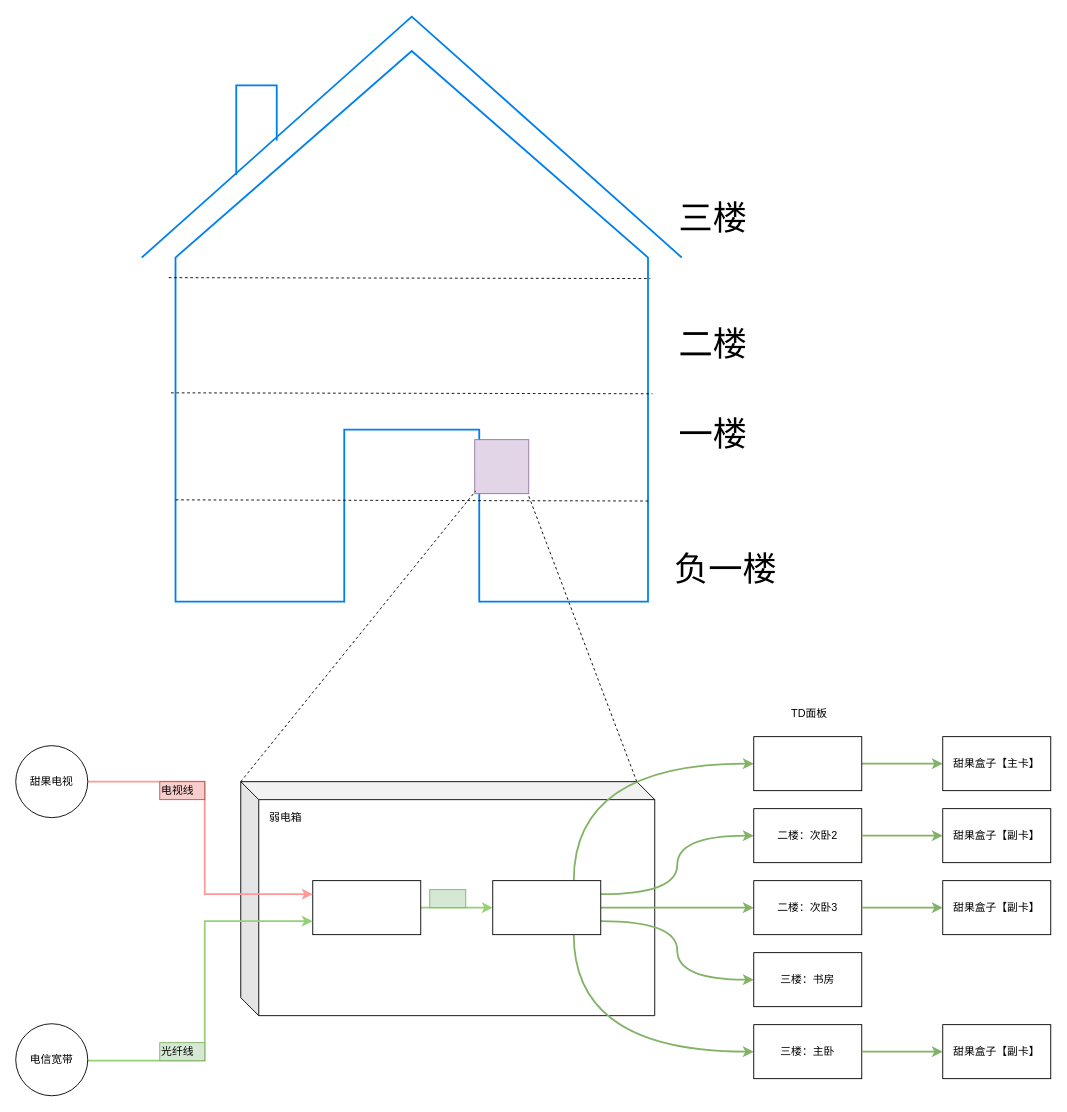
The diagram is 1067 pixels wide and 1112 high, and some of its shapes have lost their labels. Each missing label, with the centre of its shape:
"一楼：客厅" belongs at pixel 807 763.
"交换机/路由器" belongs at pixel 546 907.
"网线" belongs at pixel 447 898.
"调制解调器" belongs at pixel 366 907.
